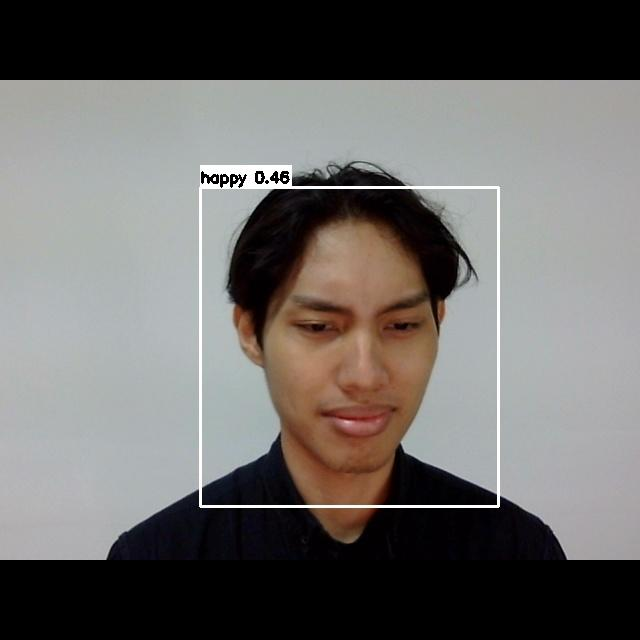Disgust: (268, 276, 451, 451)
